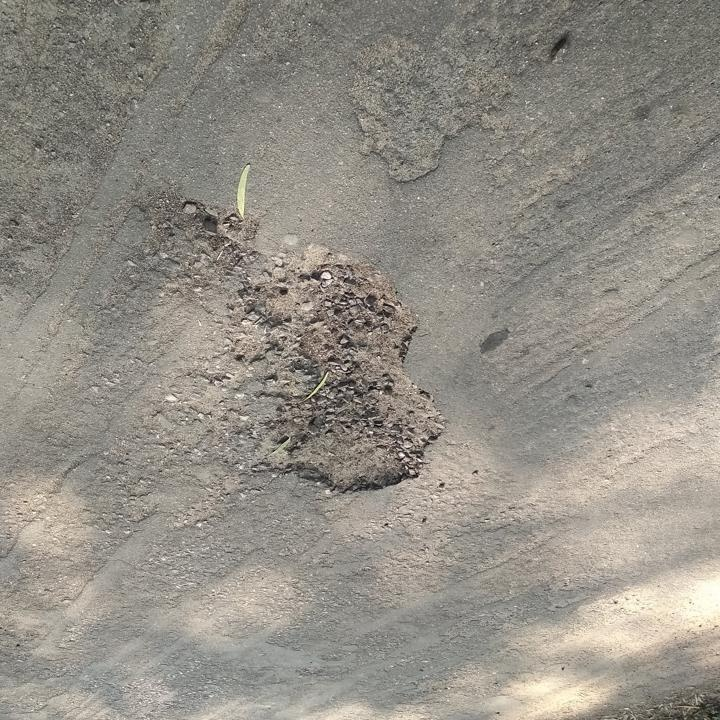pothole: (243, 243, 451, 496)
